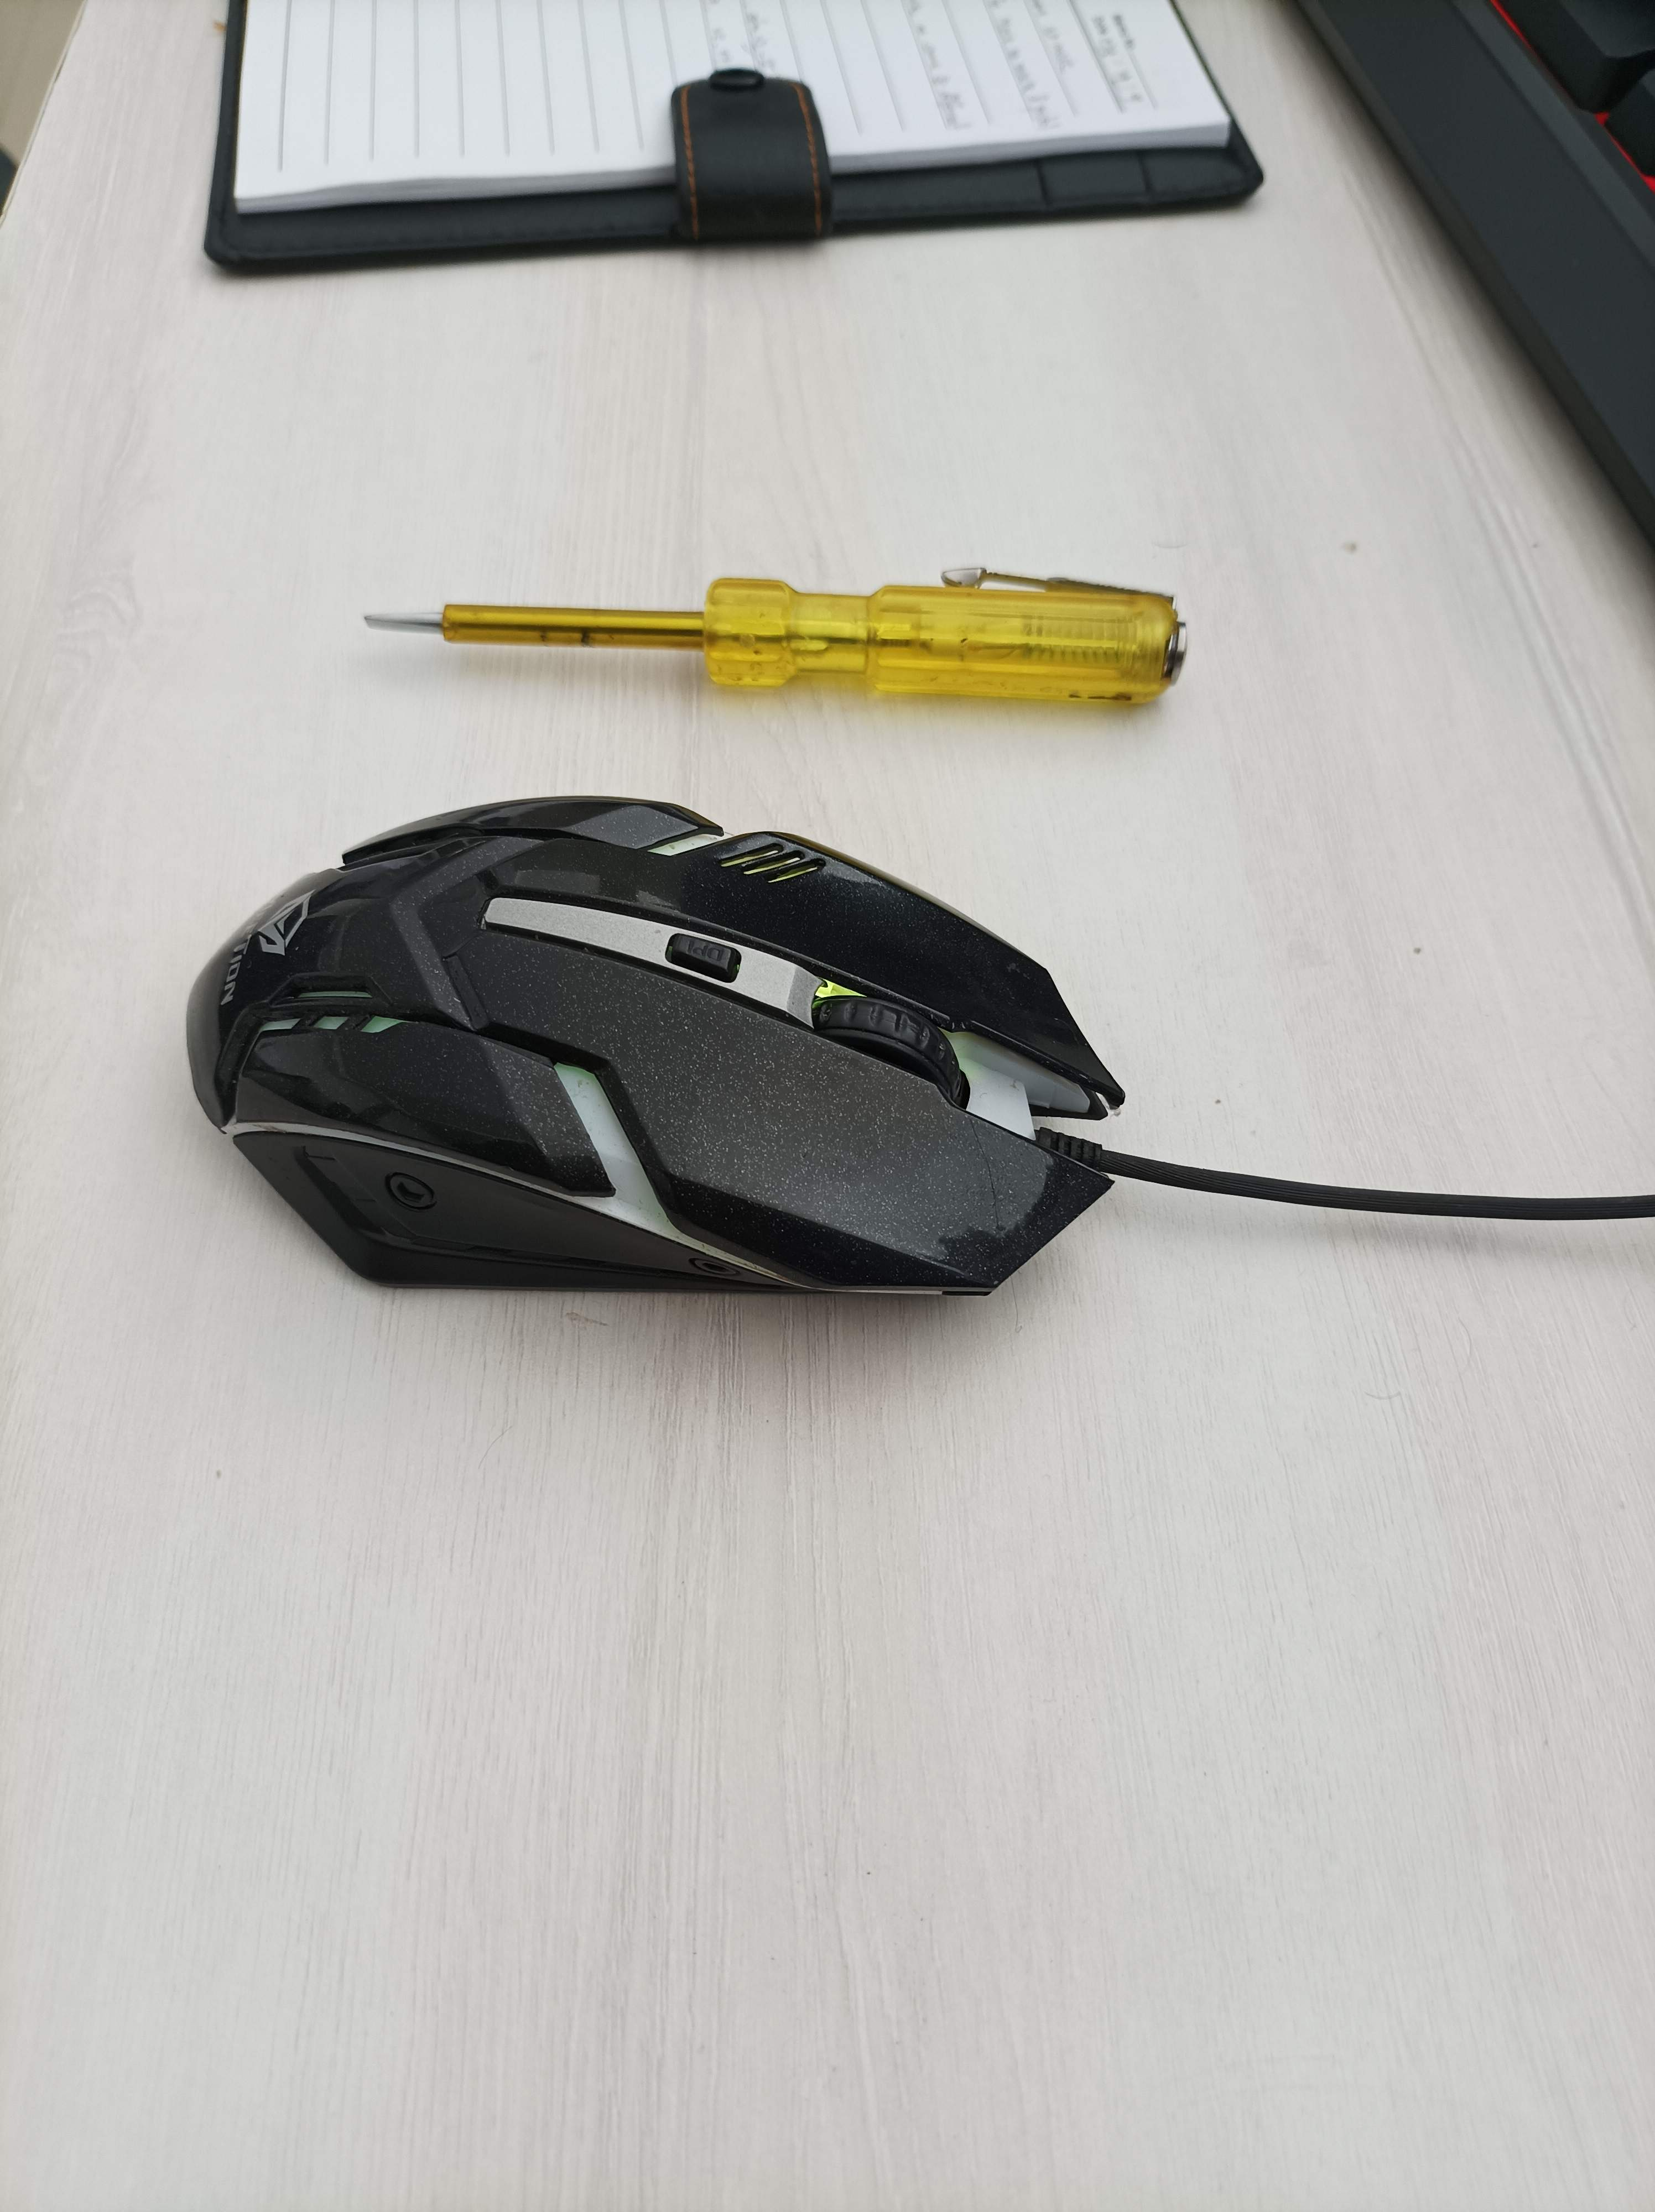mouse: (169, 766, 1133, 1331)
screwdriver: (348, 553, 1200, 730)
